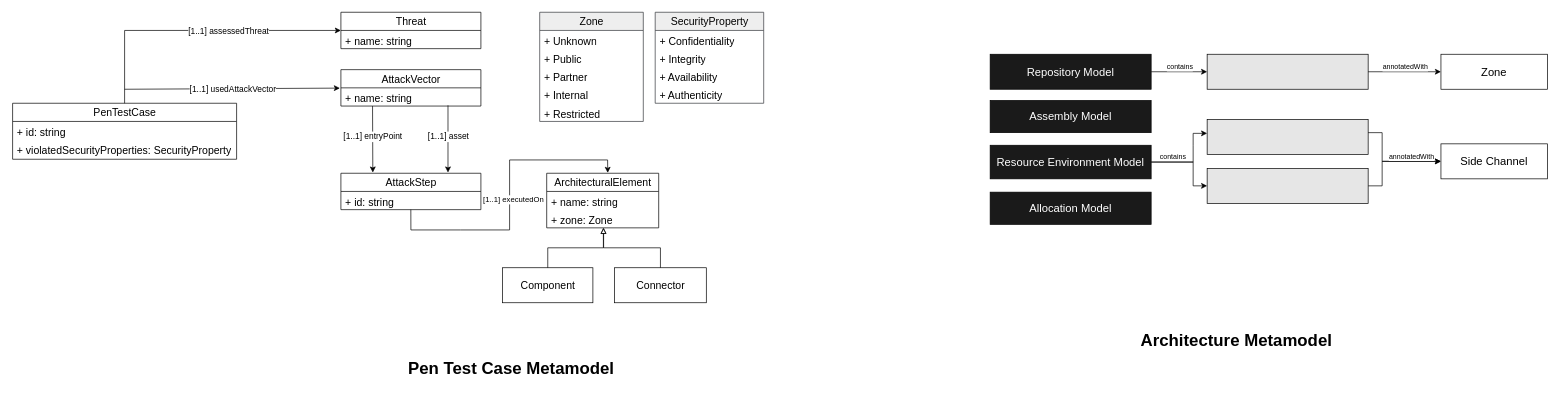
Some shapes in this 1560 by 403 pixel diagram are drawn without their labels. Each missing label, with the centre of its shape:
"Interface" goes at point (1287, 71).
"Linking Resource" goes at point (1287, 185).
"Resource Container" goes at point (1287, 136).
